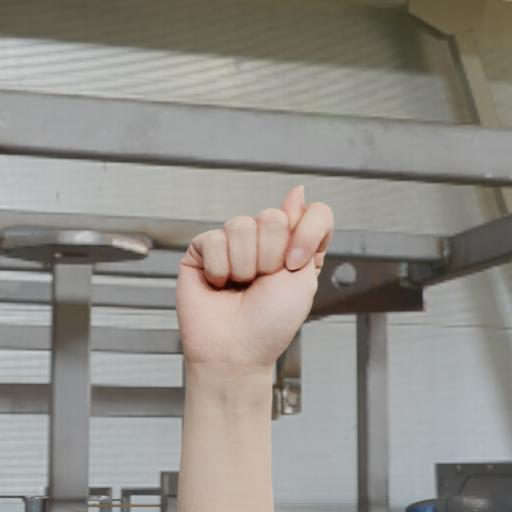T: (151, 160, 355, 436)
